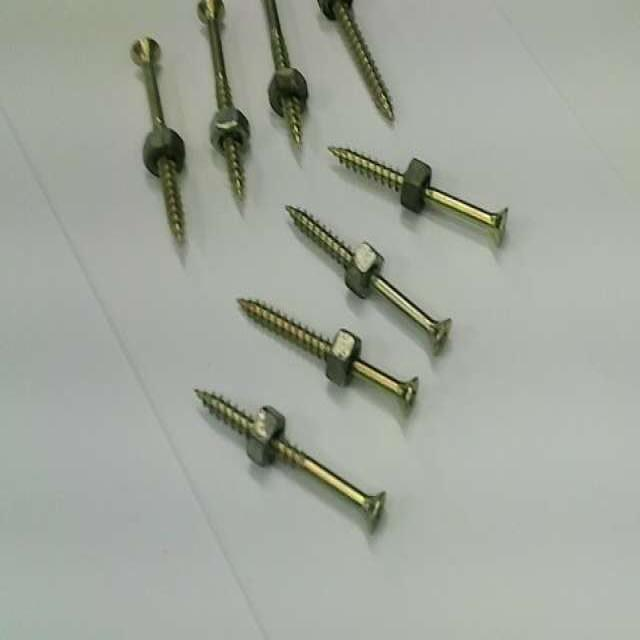Parafuso: (198, 388, 388, 530), (285, 202, 453, 360), (238, 299, 421, 419), (330, 146, 508, 249), (133, 38, 182, 242), (199, 2, 246, 203), (334, 4, 395, 127), (264, 0, 304, 145)
Porca: (141, 129, 187, 178), (208, 106, 252, 155), (247, 407, 284, 463), (398, 157, 435, 212), (347, 243, 383, 296), (269, 67, 306, 115), (318, 0, 356, 21)
